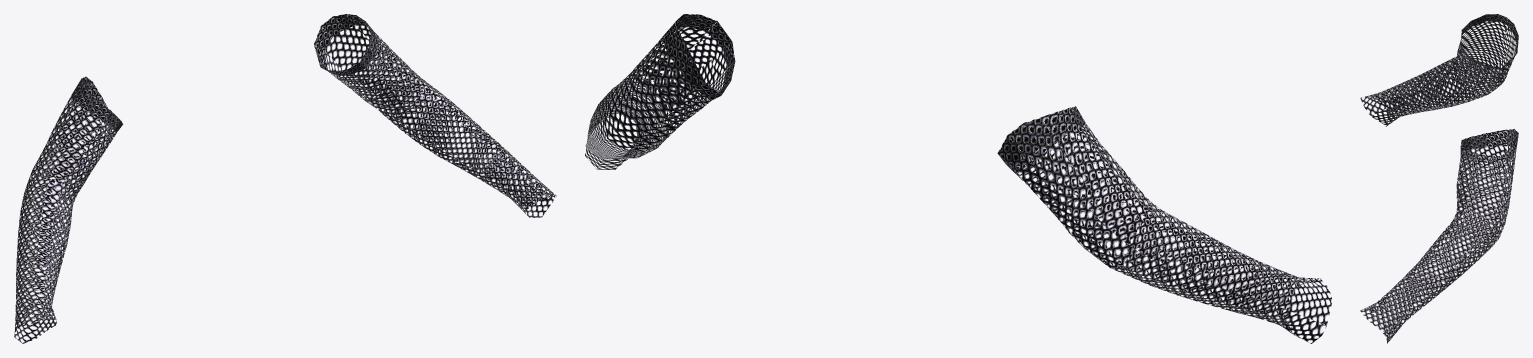
File: mhw_v0rt3x_armsleeves_black_fishnet_medium.glb
The picture shows the model from 3 angles, left to right: view 1: azimuth 30°, elevation 25°; view 2: azimuth 150°, elevation 25°; view 3: azimuth 270°, elevation 25°; orthographic projection. The views are drawn at different scales.
Parts seen in each view (by area): view 1: mhw_v0rt3x_armsleeves_black_fishnet_medium; view 2: mhw_v0rt3x_armsleeves_black_fishnet_medium; view 3: mhw_v0rt3x_armsleeves_black_fishnet_medium.
Part boxes in pixels (x1,y1,x2,y2): mhw_v0rt3x_armsleeves_black_fishnet_medium: [14, 14, 556, 343]; mhw_v0rt3x_armsleeves_black_fishnet_medium: [585, 14, 1331, 343]; mhw_v0rt3x_armsleeves_black_fishnet_medium: [1360, 14, 1518, 343].
Bounding box in the file's own units: 1.14 × 0.3737 × 0.3332.
Materials: 1 (1 with a texture image).
